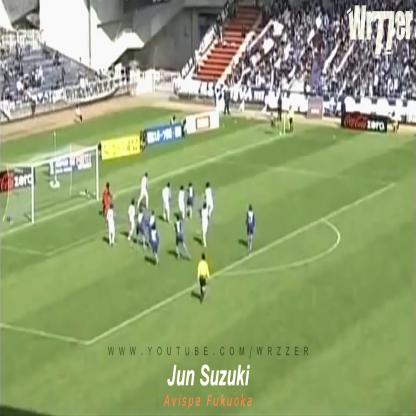corner kick: (250, 51, 323, 195)
